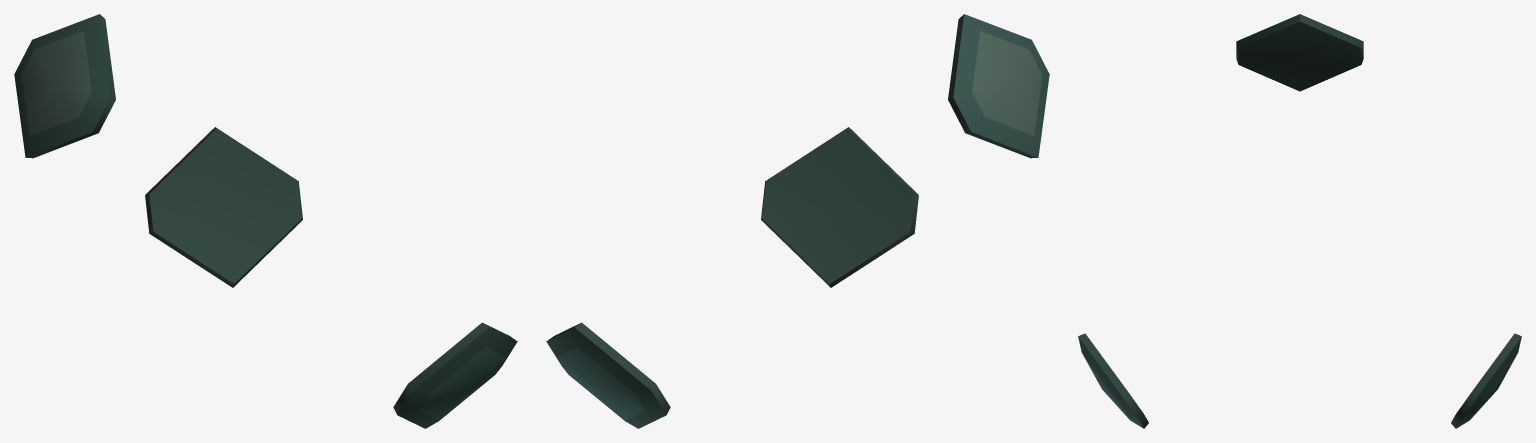
The model's file is shell_cannon_c4.glb.
3 views of the same model, side by side, from view 1: azimuth 30°, elevation 25°; view 2: azimuth 150°, elevation 25°; view 3: azimuth 270°, elevation 25° (orthographic). The views are drawn at different scales.
Visible parts, largest first — view 1: Carapace4; view 2: Carapace4; view 3: Carapace4.
Part boxes in pixels (<box>): Carapace4: <box>14,14,517,428</box>; Carapace4: <box>546,14,1049,428</box>; Carapace4: <box>1078,14,1521,428</box>.
Size of the model in its own units: 1.36 by 1.36 by 1.68.
